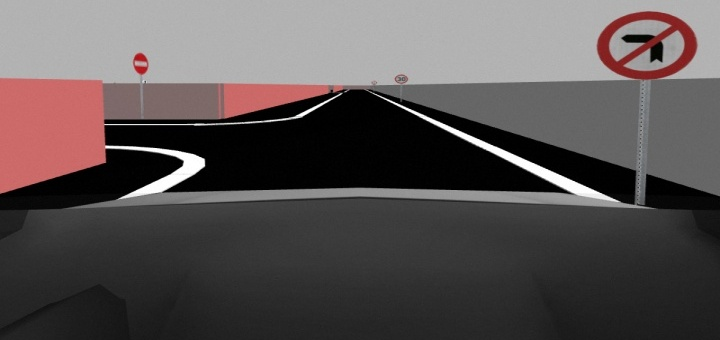sola_donulmez: (596, 10, 696, 80)
